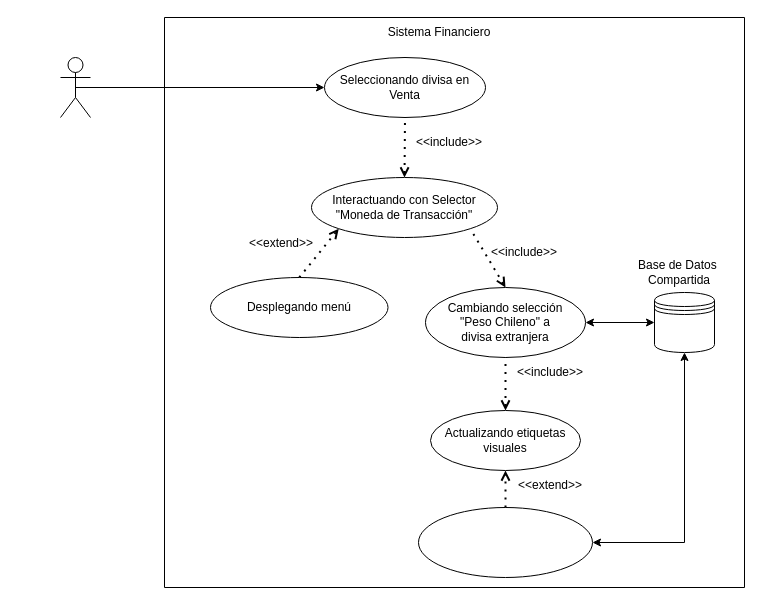
Some shapes in this 762 by 605 pixel diagram are drawn without their labels. The shapes that lost their labels are listed below. From the top down, each one's centre as x and y in pixels, then its label:
At (75,87): "Gerencia o Secretaria".
At (505,542): "Preparando entorno para tipo de cambio".
